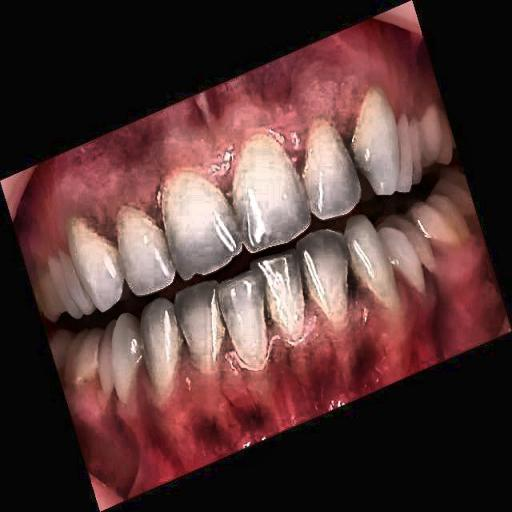Healthy: (52, 43, 456, 425)
